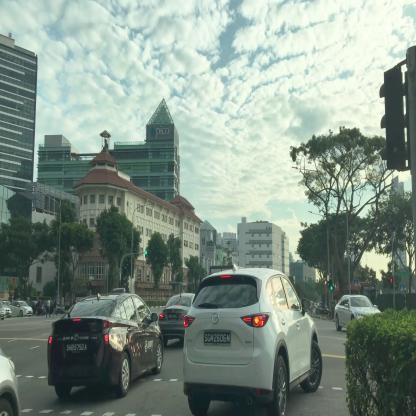green_traffic_light: (329, 280, 332, 289)
